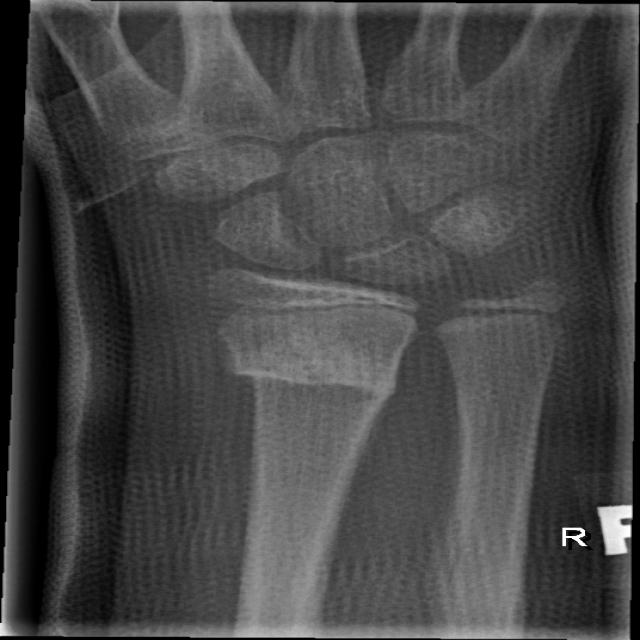radius fracture: (213, 335, 408, 443)
